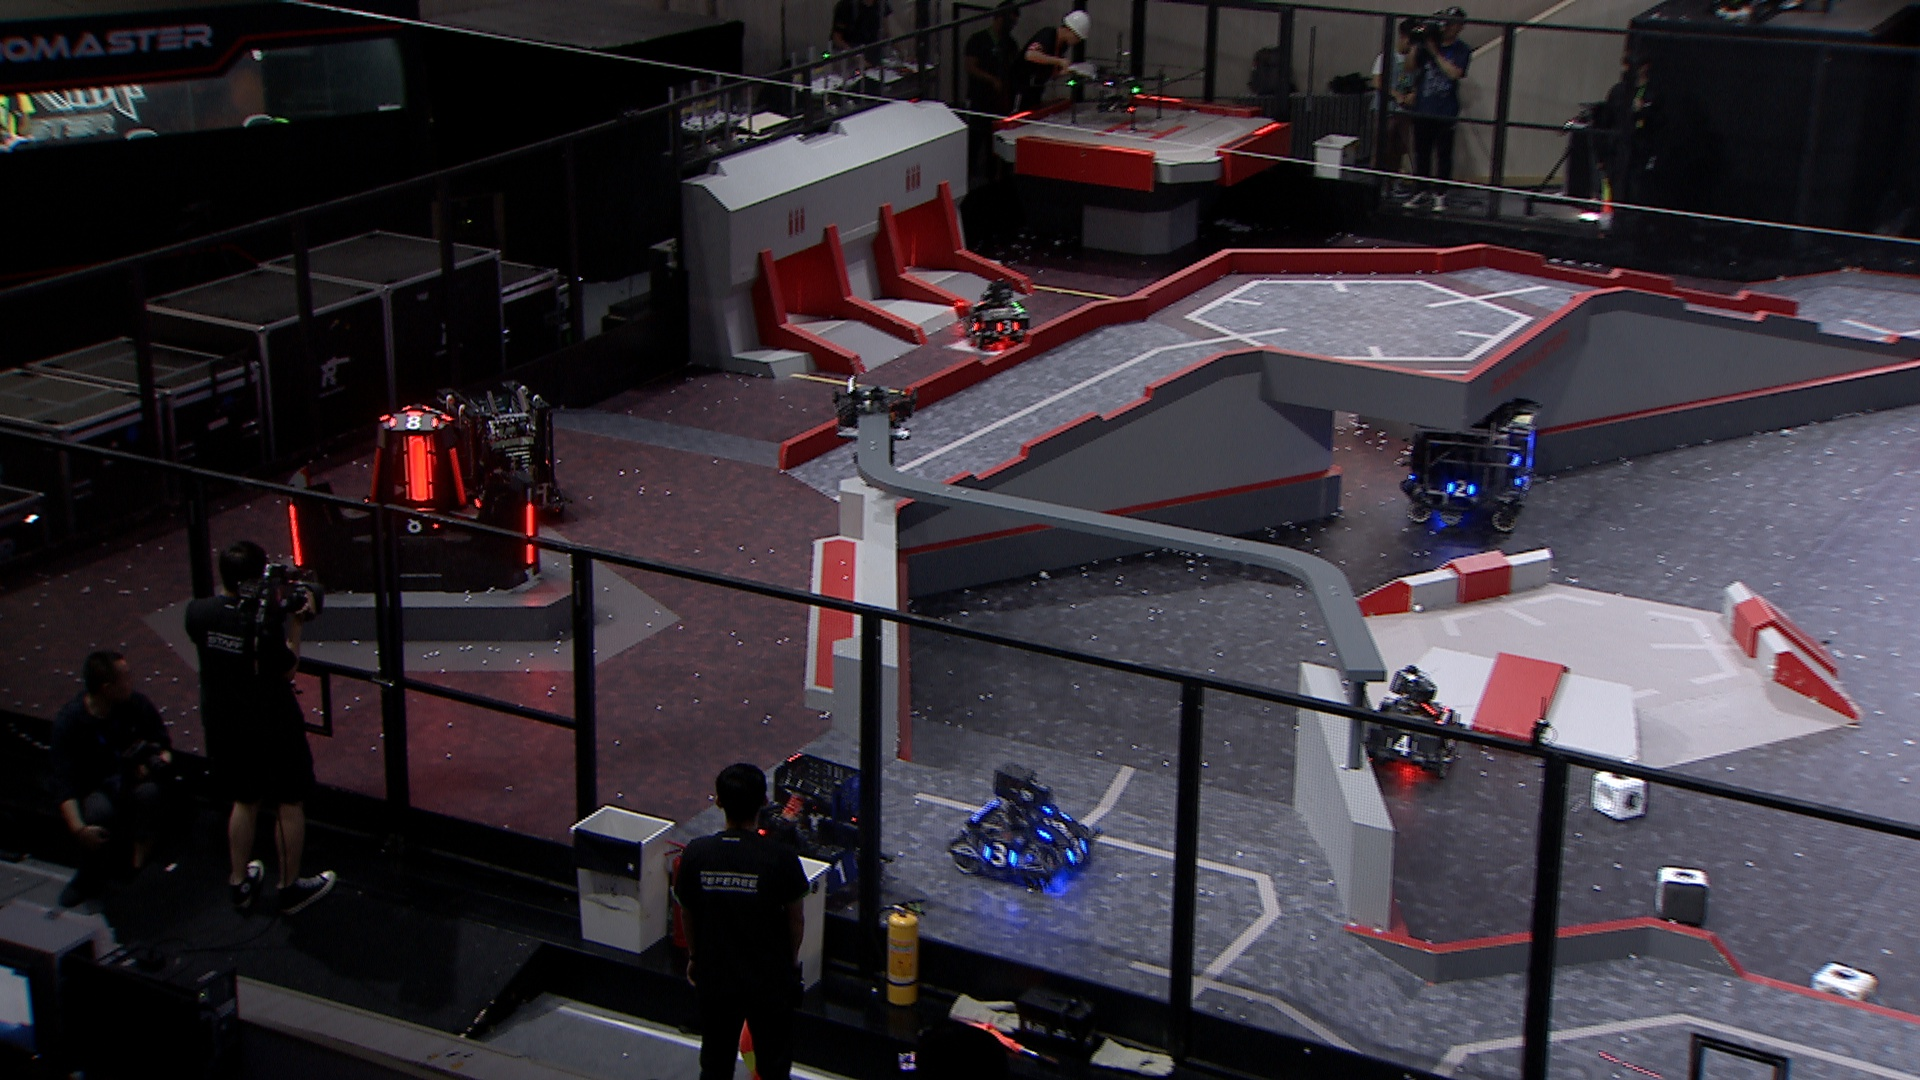armor: (404, 433, 433, 501), (446, 446, 469, 505), (285, 502, 305, 567), (385, 409, 440, 431), (520, 500, 538, 564), (825, 856, 861, 887), (401, 510, 440, 537), (1036, 808, 1069, 840), (982, 839, 1017, 869), (367, 444, 384, 502), (1385, 732, 1418, 756), (1443, 477, 1477, 498), (1067, 833, 1091, 861), (1439, 732, 1458, 756), (993, 319, 1021, 335), (965, 316, 982, 335)
base: (278, 400, 543, 597)
car: (713, 750, 891, 913), (1403, 389, 1548, 533), (438, 377, 575, 524), (948, 760, 1098, 891), (1358, 665, 1465, 781), (960, 276, 1031, 349)
watcher: (828, 373, 920, 469)
